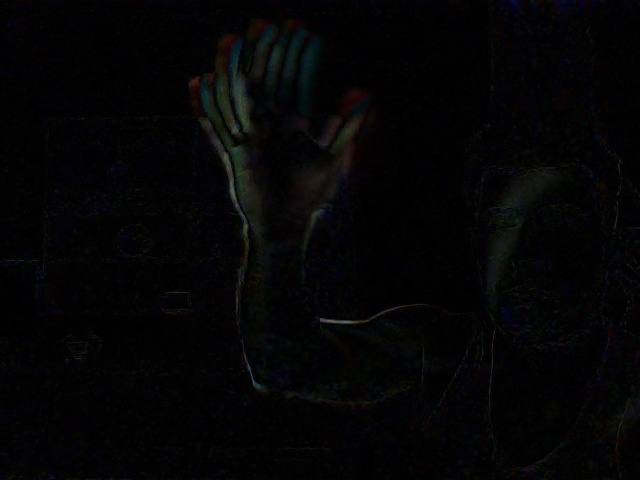arm_fo: (189, 10, 372, 396)
